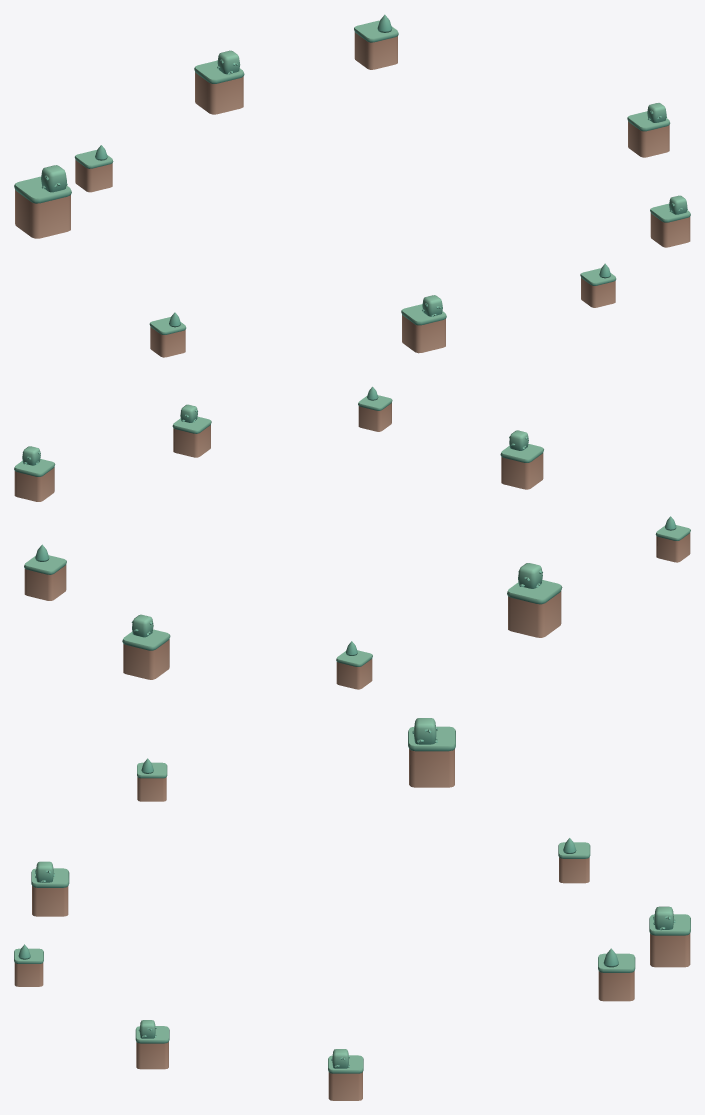
The model's file is backdrop.glb.
3 views of the same model, one above another, from view 1: azimuth 30°, elevation 25°; view 2: azimuth 150°, elevation 25°; view 3: azimuth 270°, elevation 25° (orthographic). The views are drawn at different scales.
Visible parts, largest first — view 1: backdrop; view 2: backdrop; view 3: backdrop.
Part boxes in pixels (<box>): backdrop: <box>14,14,690,357</box>; backdrop: <box>14,386,690,689</box>; backdrop: <box>14,718,690,1100</box>.
Bounding box in the file's own units: 90.73 × 13.8 × 85.22.
